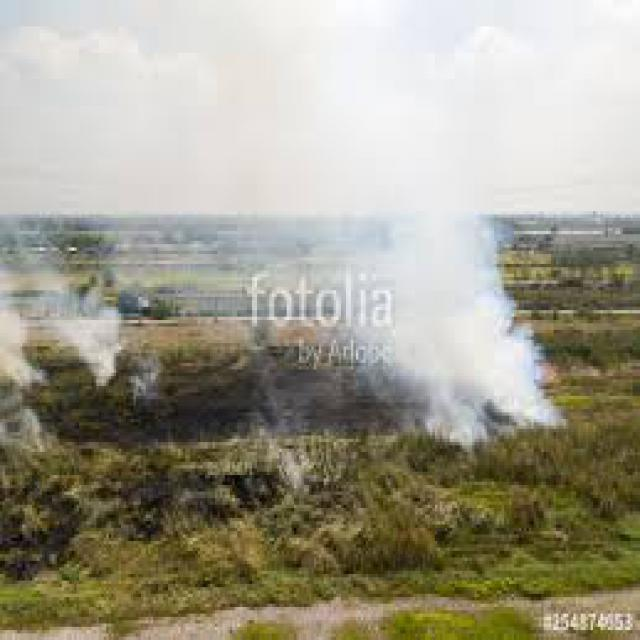Smoke: (339, 130, 557, 434)
